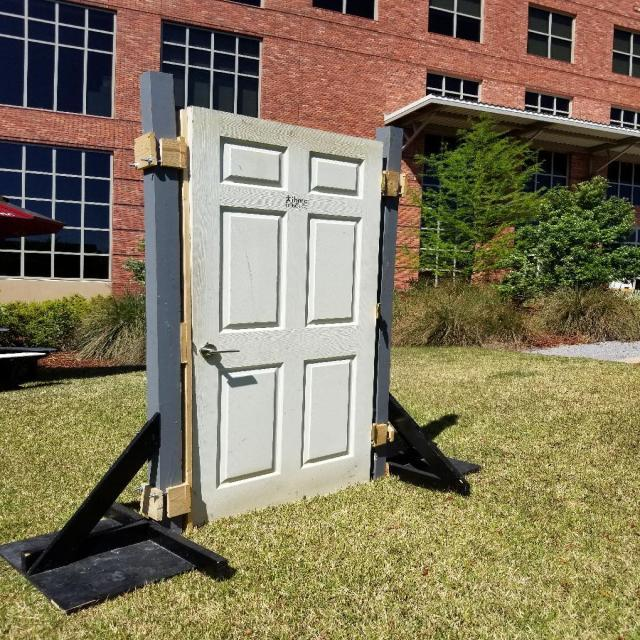door: (175, 104, 388, 533), (198, 343, 244, 362)
